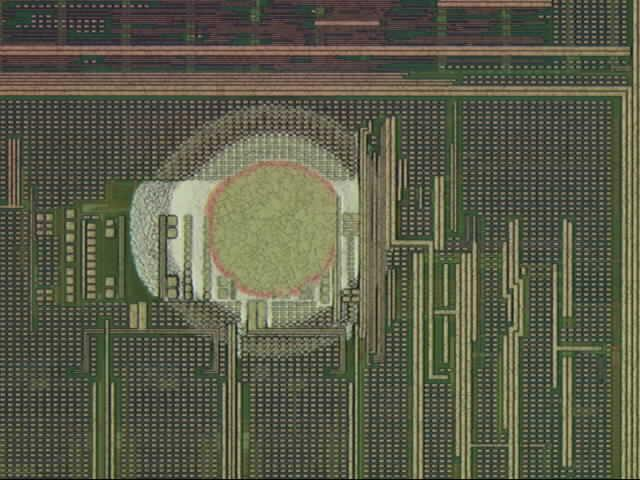BLOCK ETCH: (130, 99, 398, 363)
